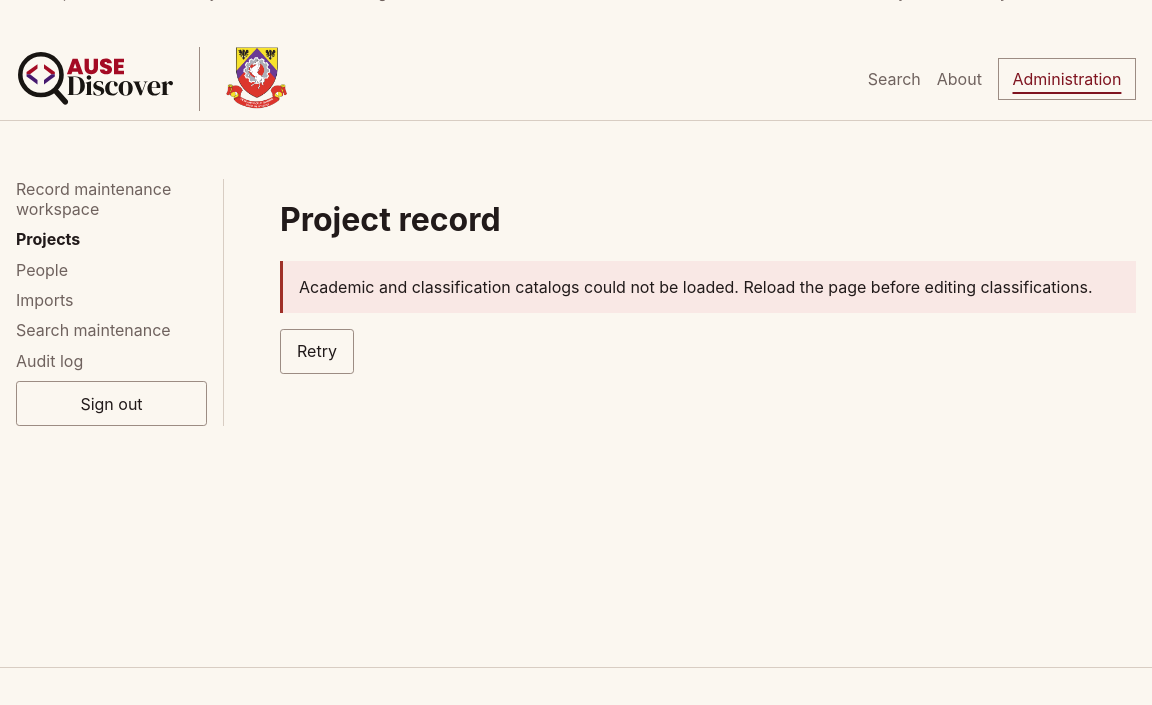
administrator project form boundaries › blocks the form behind dependency loading and failure with an explicit retry
The image size is (1152, 705).
(page scrolled)
Check: the message shows "Academic and classification catalogs could not be loaded", box [299,277,1092,297]
Step 1. Click the button "Retry" → click(317, 351), box [280,329,354,374]
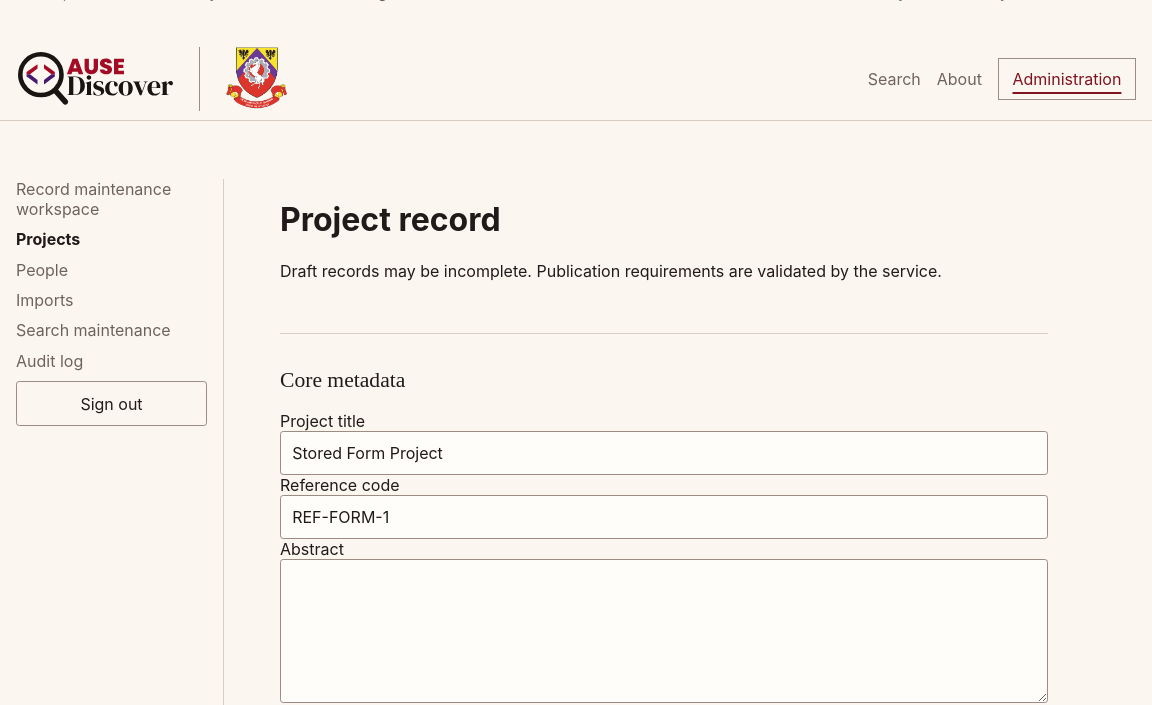
Check: the field labelled "Project title" holds "Stored Form Project", box [280,430,1048,475]
